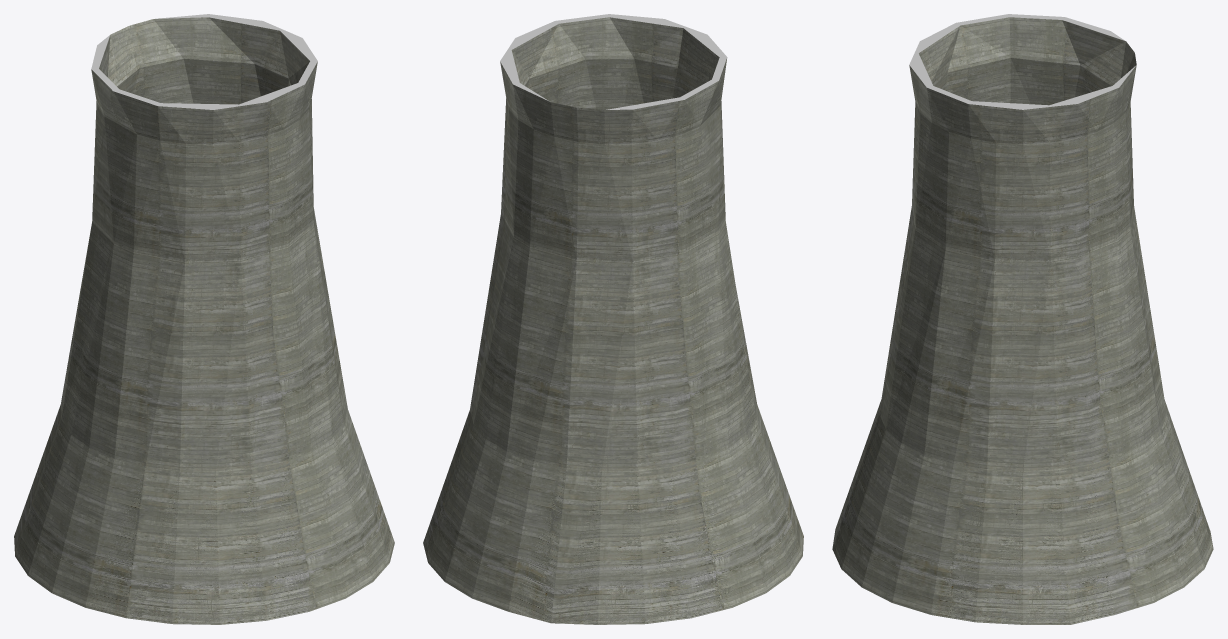
The model's file is Building_6_LOD01.fbx.
3 views of the same model, side by side, from view 1: azimuth 30°, elevation 25°; view 2: azimuth 150°, elevation 25°; view 3: azimuth 270°, elevation 25° (orthographic).
Parts seen in each view (by area): view 1: Building_6_LOD01; view 2: Building_6_LOD01; view 3: Building_6_LOD01.
Boxes of the visible parts, bbox=[...] form: Building_6_LOD01: bbox=[14, 14, 394, 624]; Building_6_LOD01: bbox=[423, 14, 803, 624]; Building_6_LOD01: bbox=[832, 14, 1213, 624].
Bounding box in the file's own units: 14.17 × 19.93 × 14.2.
